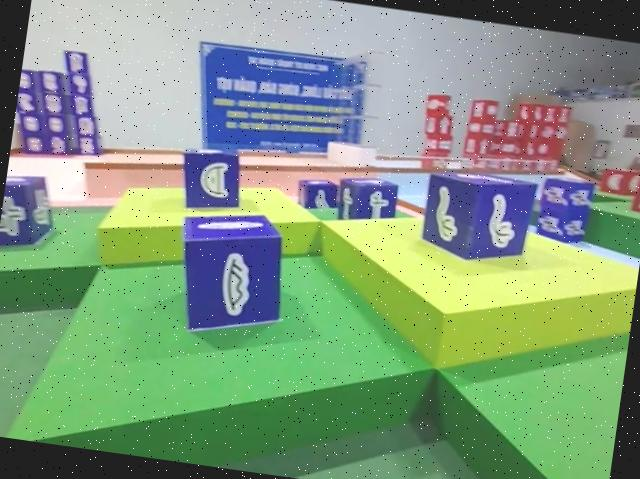R2 Real Blue: (164, 204, 291, 345), (418, 167, 541, 273), (173, 145, 245, 217), (0, 173, 57, 261), (332, 174, 398, 230), (291, 176, 339, 215)
